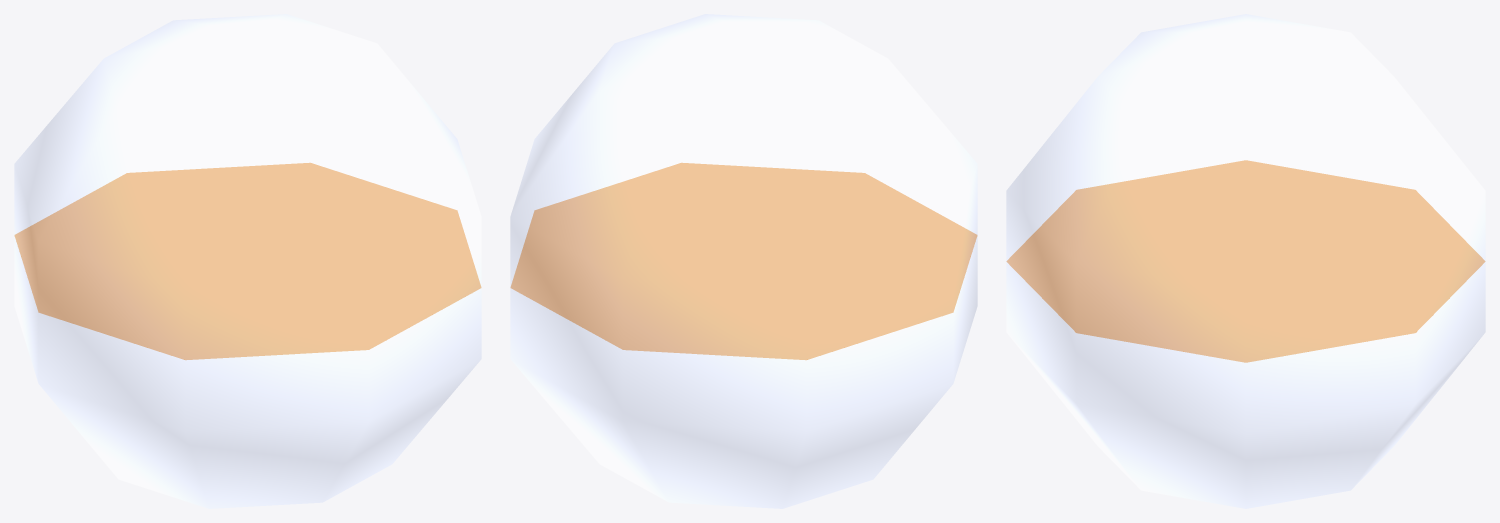
Rendered from marble-center-low.glb.
The picture shows the model from 3 angles, left to right: view 1: azimuth 30°, elevation 25°; view 2: azimuth 150°, elevation 25°; view 3: azimuth 270°, elevation 25°; orthographic projection.
Visible parts, largest first — view 1: (%ignore), marble-center-low; view 2: (%ignore), marble-center-low; view 3: (%ignore), marble-center-low.
Boxes of the visible parts, x1,y1,x2,y2 form: (%ignore): (14, 14, 481, 508); marble-center-low: (14, 163, 481, 359); (%ignore): (510, 14, 977, 508); marble-center-low: (510, 163, 977, 359); (%ignore): (1006, 14, 1485, 508); marble-center-low: (1006, 160, 1485, 362).
Size of the model in its own units: 0.3804 by 0.4 by 0.3804.
Materials: 2 (1 with a texture image).
